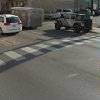crosswalk: (0, 36, 99, 66)
